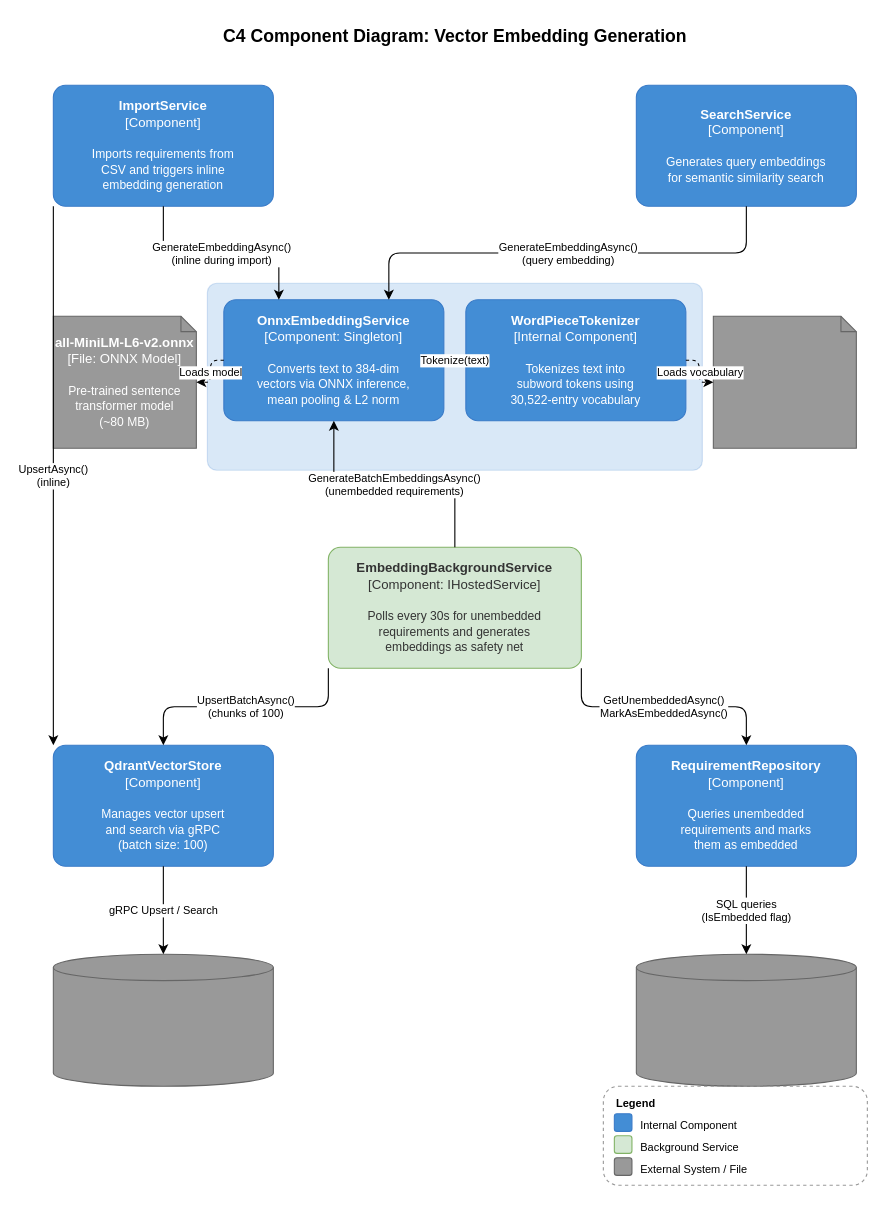
This 887x1205 diagram has some shape labels left out. The shapes that lost their labels are listed below. From the top down, each one's centre as x and y in pixels, then its label:
At (784,381): "vocab.txt [File: Vocabulary] 30,522 WordPiece tokens for tokenization".
At (162,1019): "Qdrant [External: Vector DB] Stores 384-dim vectors with cosine distance metric".
At (745,1019): "SQLite [External: Database] Stores requirements with IsEmbedded flag".
